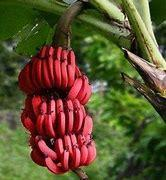banana: (12, 46, 105, 177)
